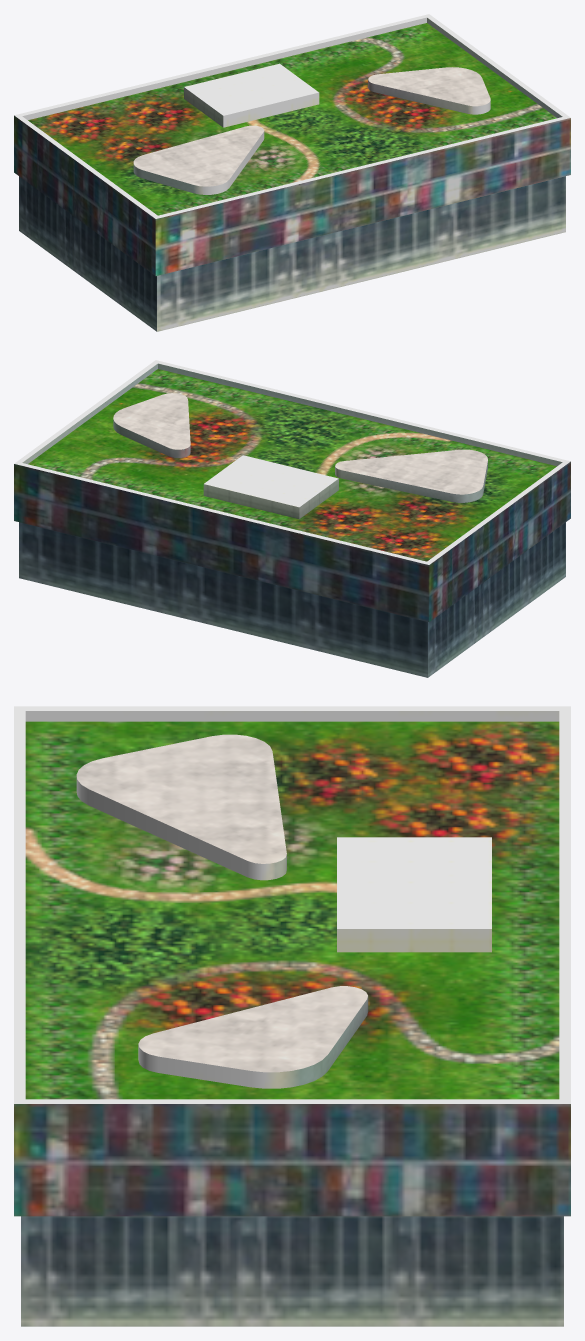
Rendered from 1B business01.obj.
3 views of the same model, one above another, from view 1: azimuth 30°, elevation 25°; view 2: azimuth 150°, elevation 25°; view 3: azimuth 270°, elevation 25° (orthographic). The views are drawn at different scales.
Visible parts, largest first — view 1: 1B_business01; view 2: 1B_business01; view 3: 1B_business01.
Boxes of the visible parts, x1=… form: 1B_business01: x1=14, y1=14, x2=570, y2=331; 1B_business01: x1=14, y1=360, x2=570, y2=677; 1B_business01: x1=14, y1=706, x2=570, y2=1326.
Size of the model in its own units: 40.09 by 11.19 by 23.71.
Materials: 1 (1 with a texture image).
